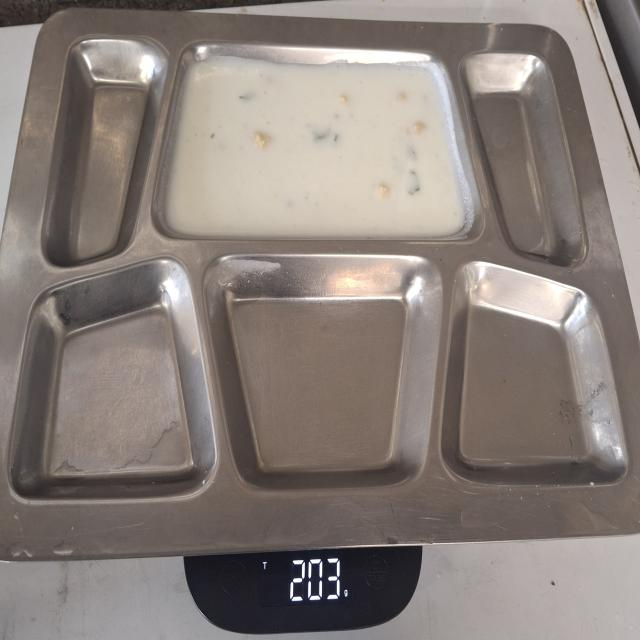Raita: (166, 48, 467, 246)
